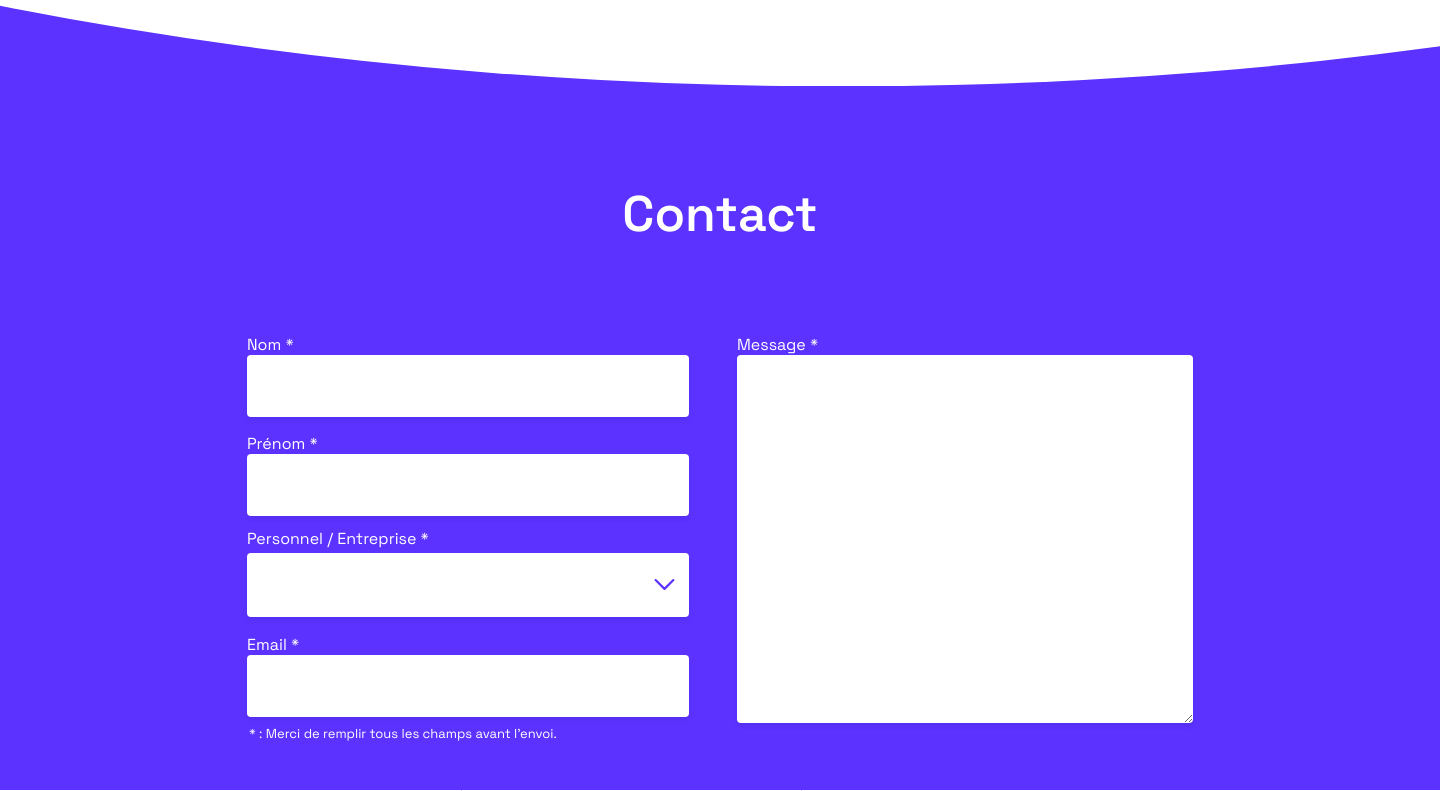
When Form is rendered › and a click is triggered on the submit button › displays the success message on successful form submission
The image size is (1440, 791).
(page scrolled)
Note: Remplir les champs fields de façon fictive
Type "John" into the field labelled "Nom *" at (468, 386), box [247,355,689,417]
Type "Doe" into the field labelled "Prénom *" at (468, 485), box [247,454,689,516]
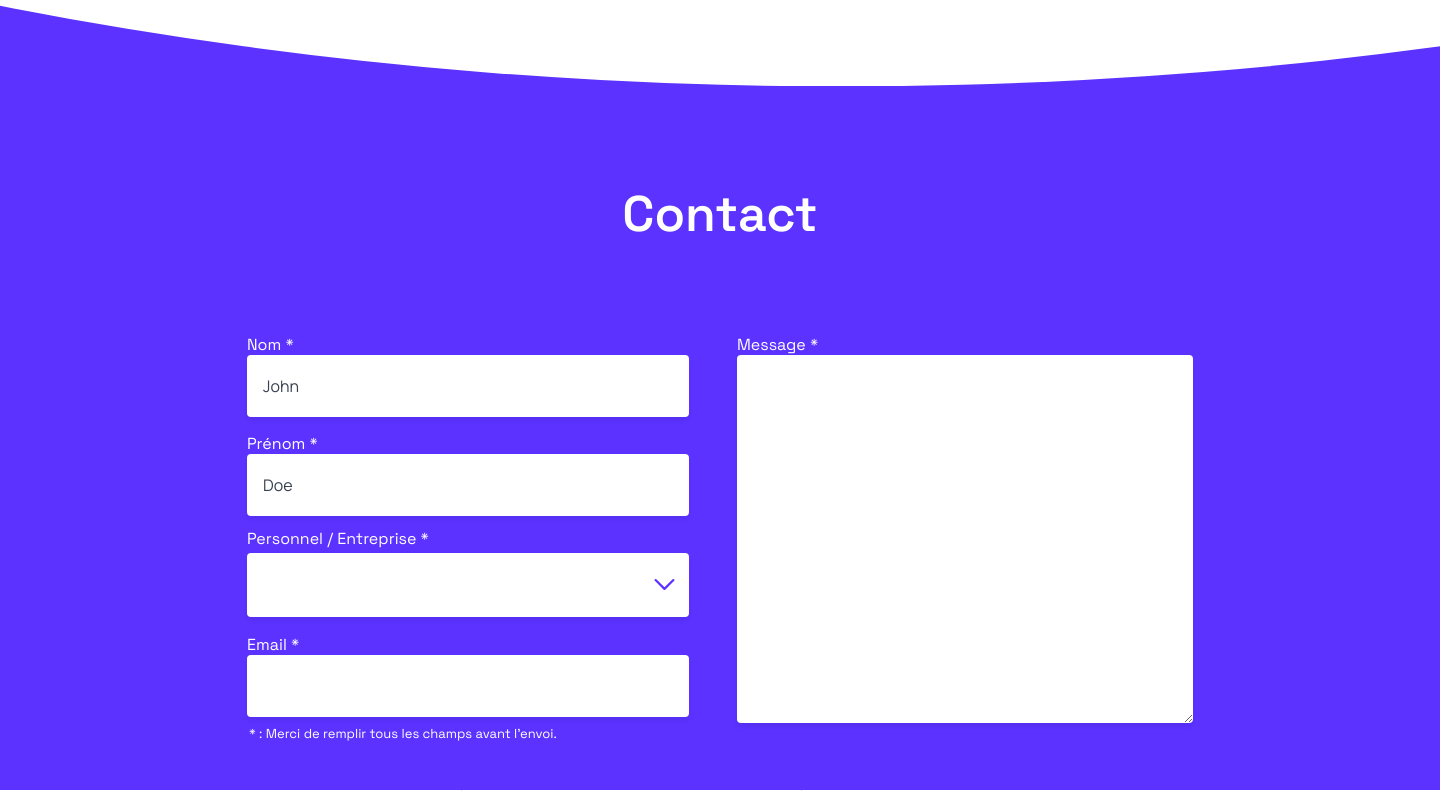
Type "john.doe@example.com" into the field labelled "Email *" at (468, 686), box [247,655,689,717]
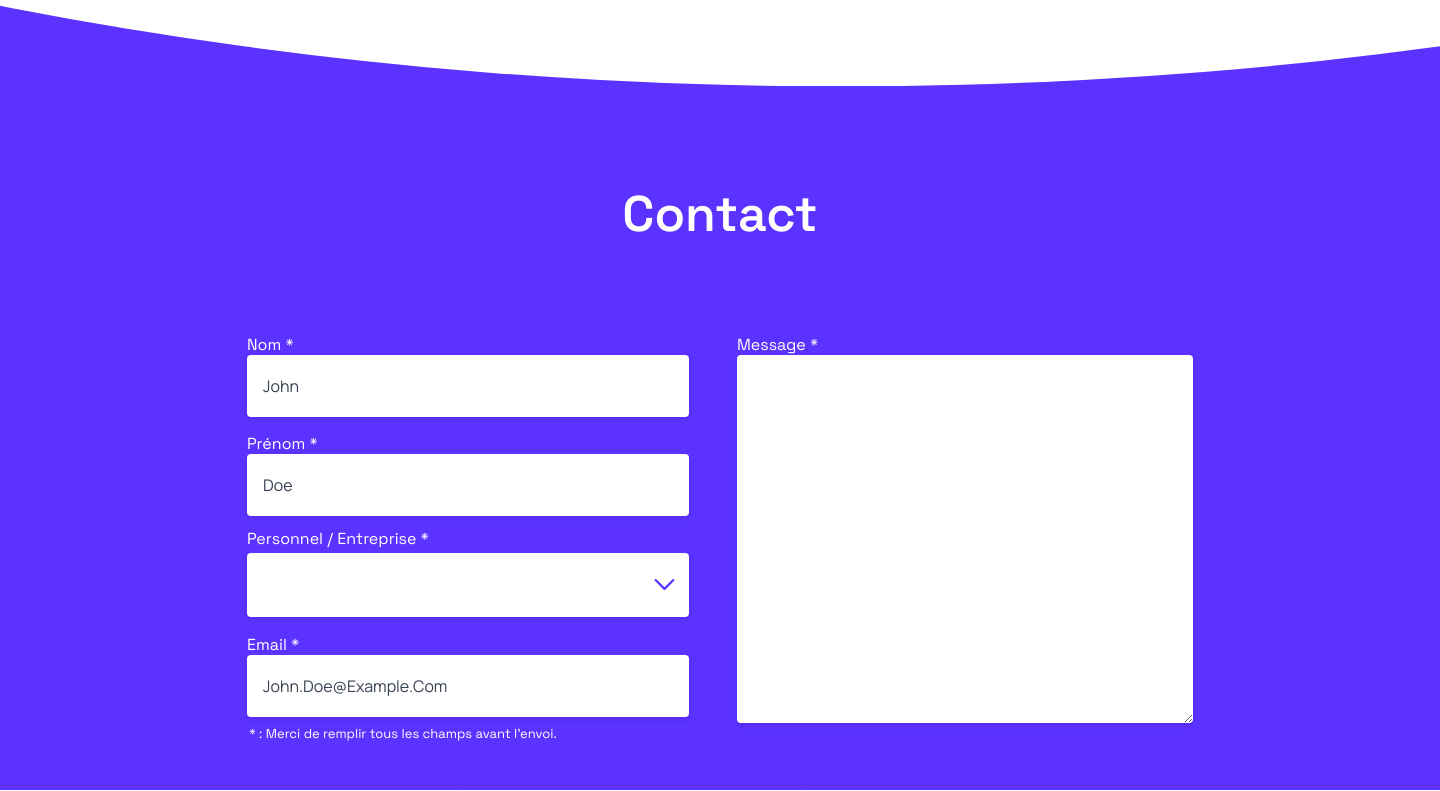
Type "Hello there!" into the text box labelled "Message *" at (965, 539), box [737,355,1193,723]
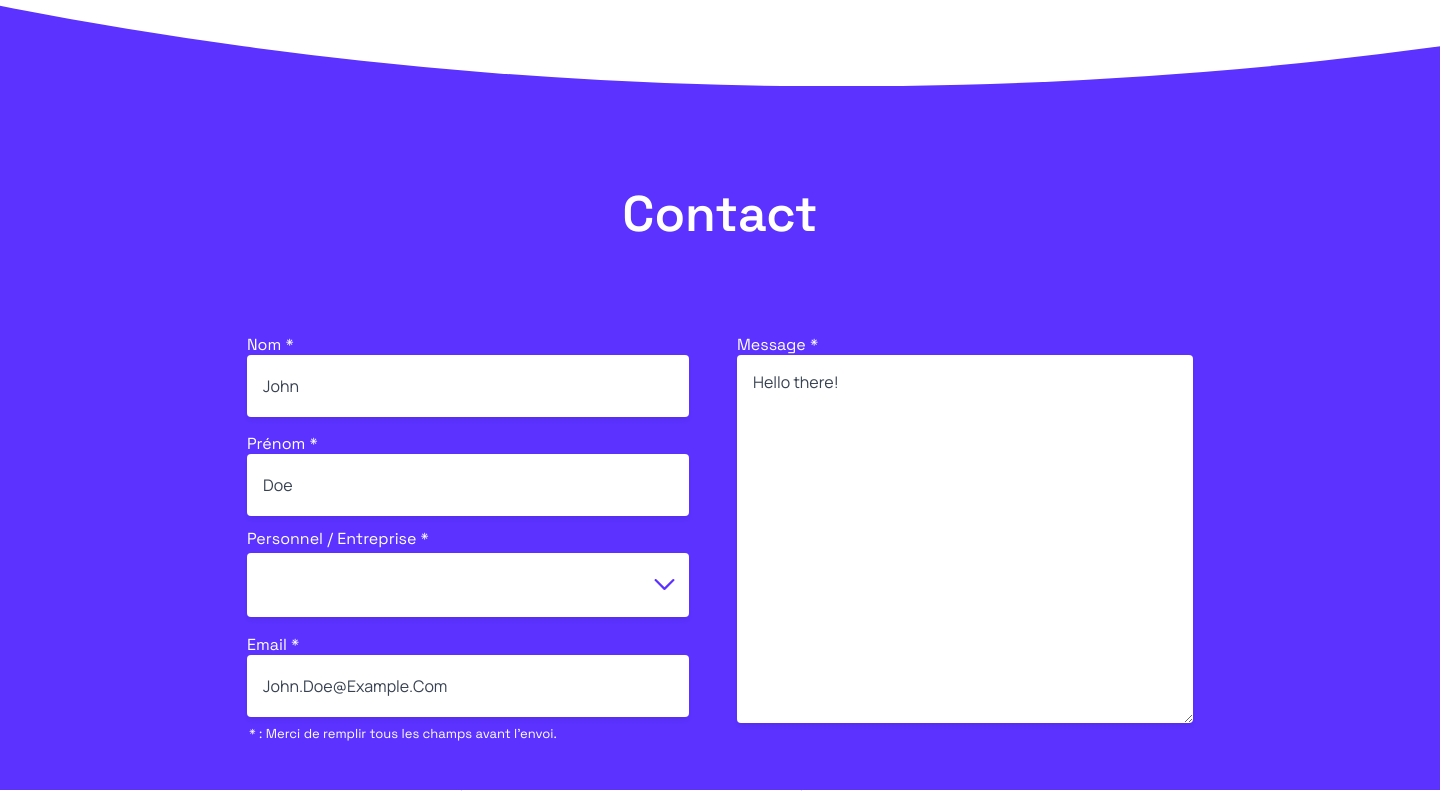
Click the button with test id "collapse-button-testid" at (664, 585), box [648,569,681,601]
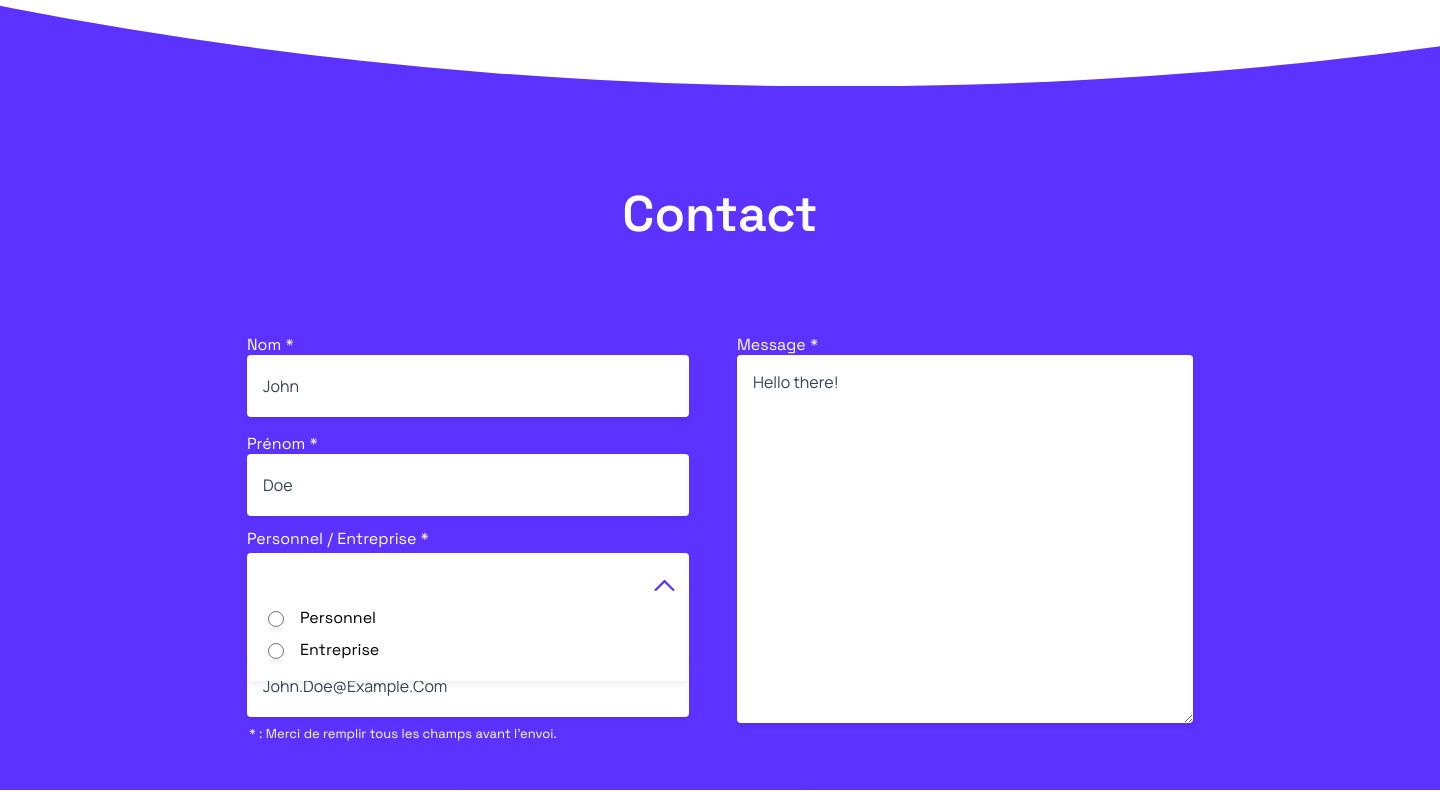
Note: Cliquer sur l'option "Entreprise"
Click the list item "Entreprise" at (324, 649), box [268,639,379,660]
(page scrolled)
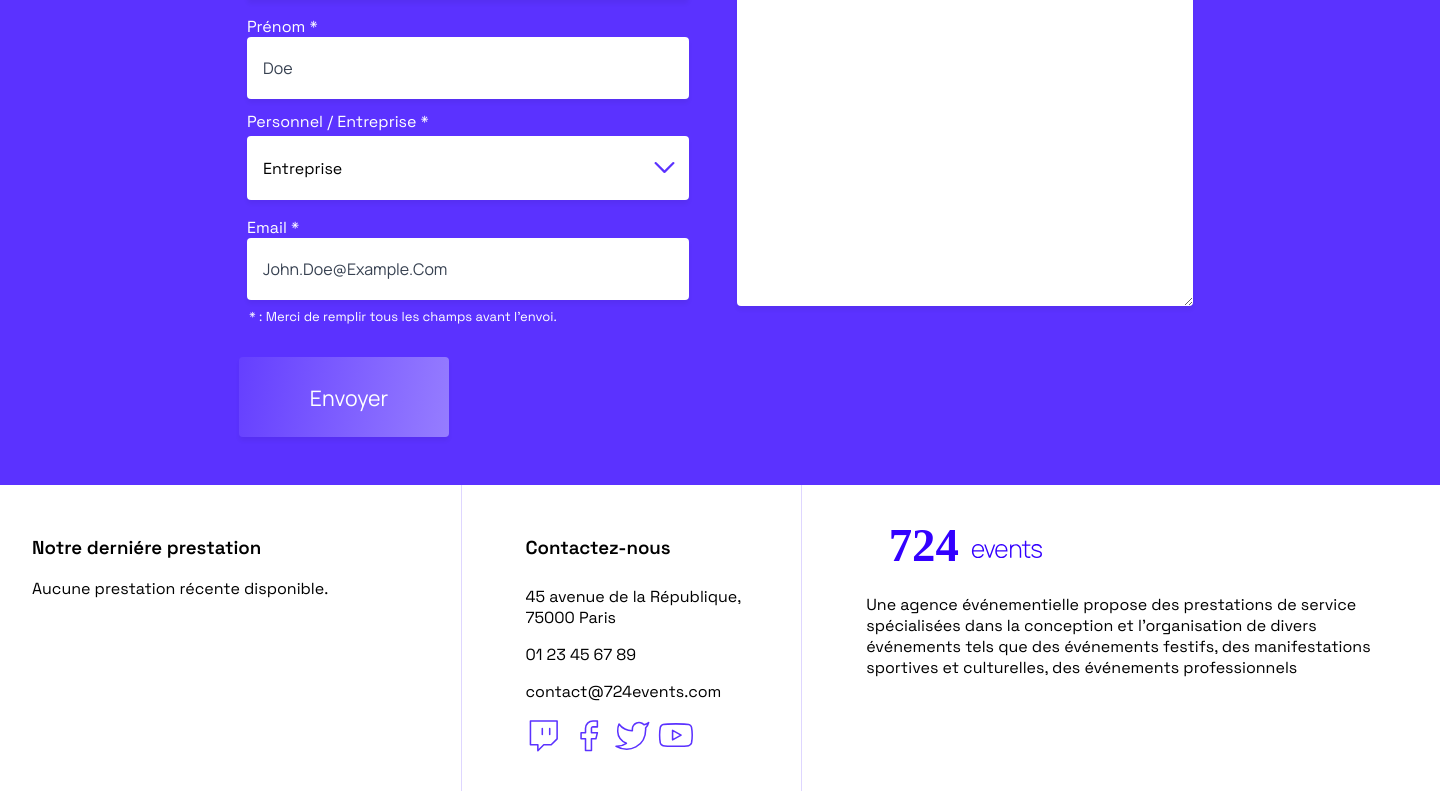
Check: the element named "Personnel / Entreprise *" is shown, box [247,136,689,200]
Note: Soumettre le formulaire en trouvant et en cliquant sur le bouton "Envoyer"
Click the button "Envoyer" at (344, 397), box [239,357,449,437]
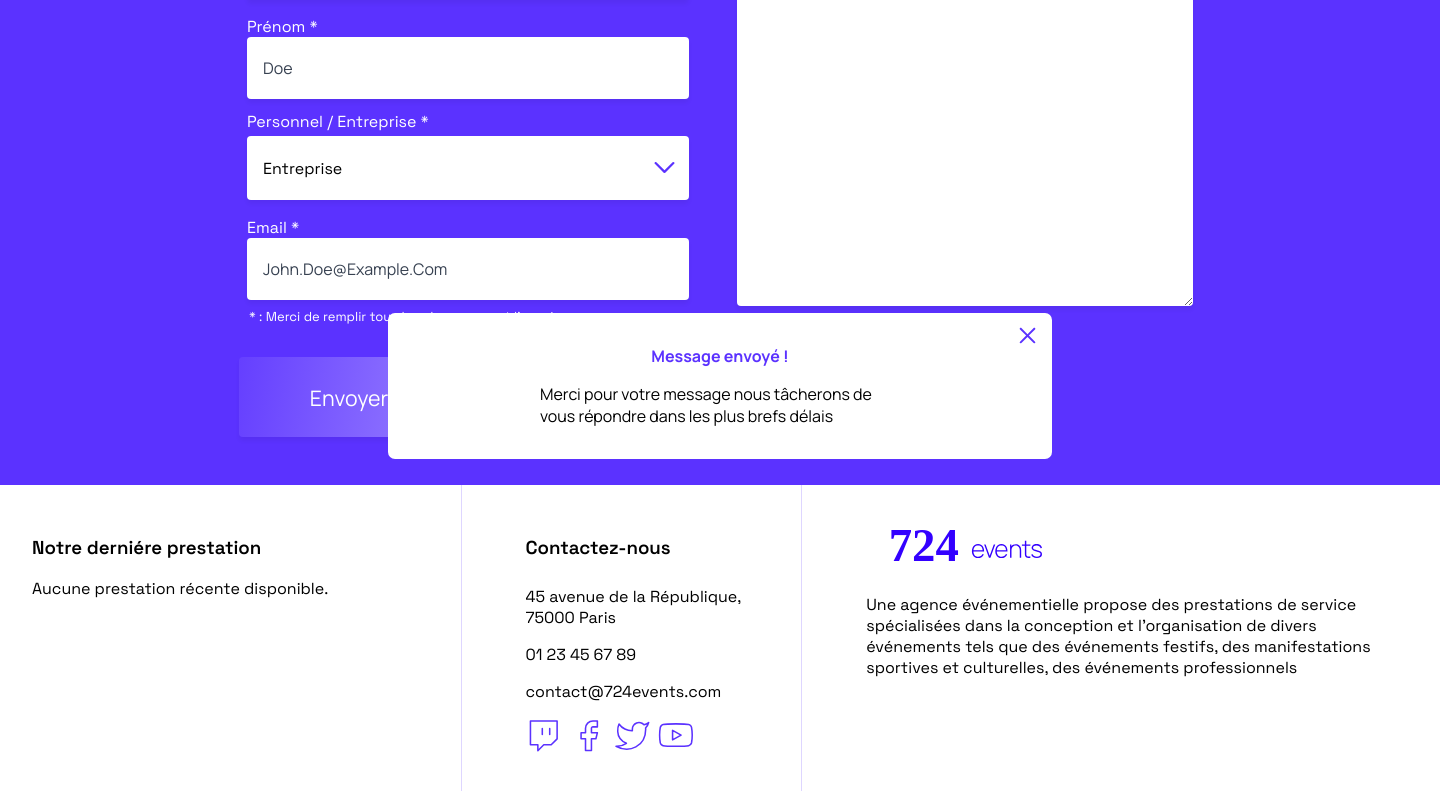
Check: the text "Message envoyé !" is shown, box [651,345,789,367]
